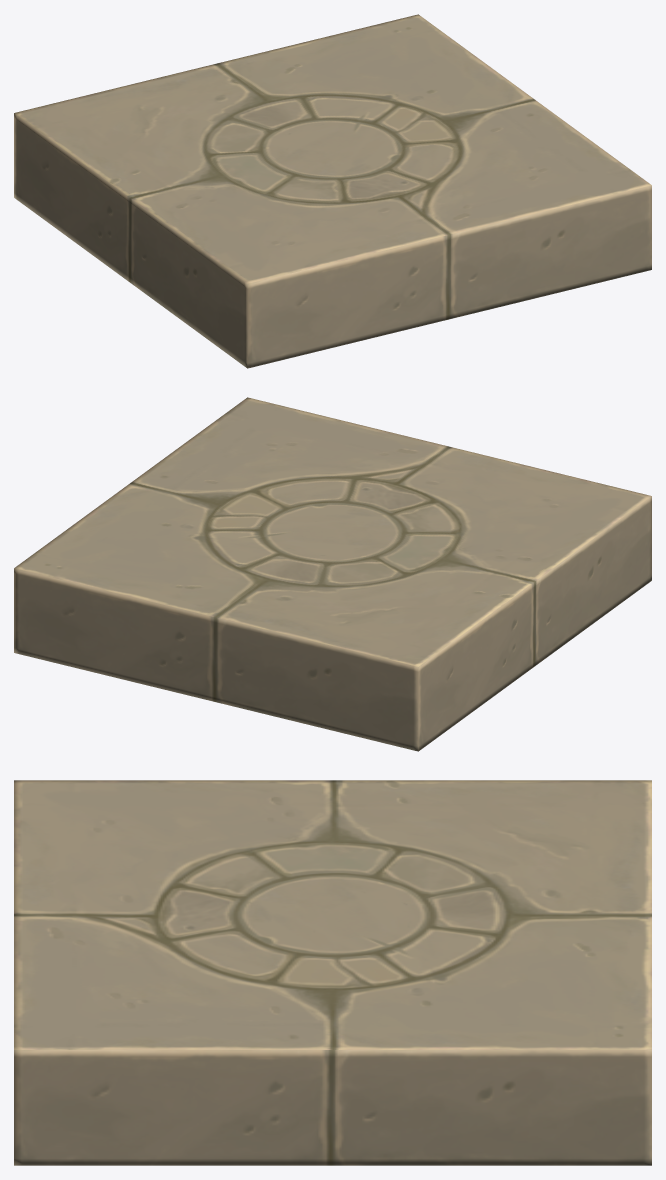
Rendered from stone_block_007.gltf.
The picture shows the model from 3 angles, top to bottom: view 1: azimuth 30°, elevation 25°; view 2: azimuth 150°, elevation 25°; view 3: azimuth 270°, elevation 25°; orthographic projection. The views are drawn at different scales.
Visible parts, largest first — view 1: node-0; view 2: node-0; view 3: node-0.
Part boxes in pixels (x1=…): node-0: x1=14, y1=14, x2=651, y2=368; node-0: x1=14, y1=397, x2=651, y2=751; node-0: x1=14, y1=780, x2=651, y2=1165.
Size of the model in its own units: 100 by 20 by 100.
Materials: 1 (1 with a texture image).
